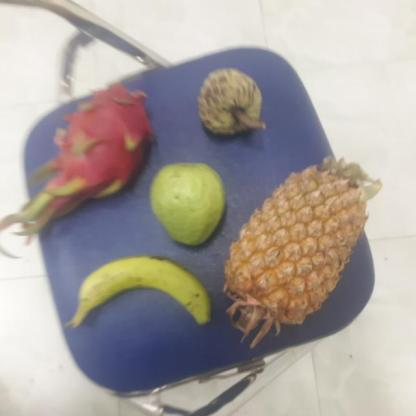annona: (194, 69, 262, 138)
banana: (70, 257, 210, 329)
guava: (149, 162, 227, 246)
pineapple: (222, 162, 368, 340)
pitaya: (55, 85, 154, 200)
